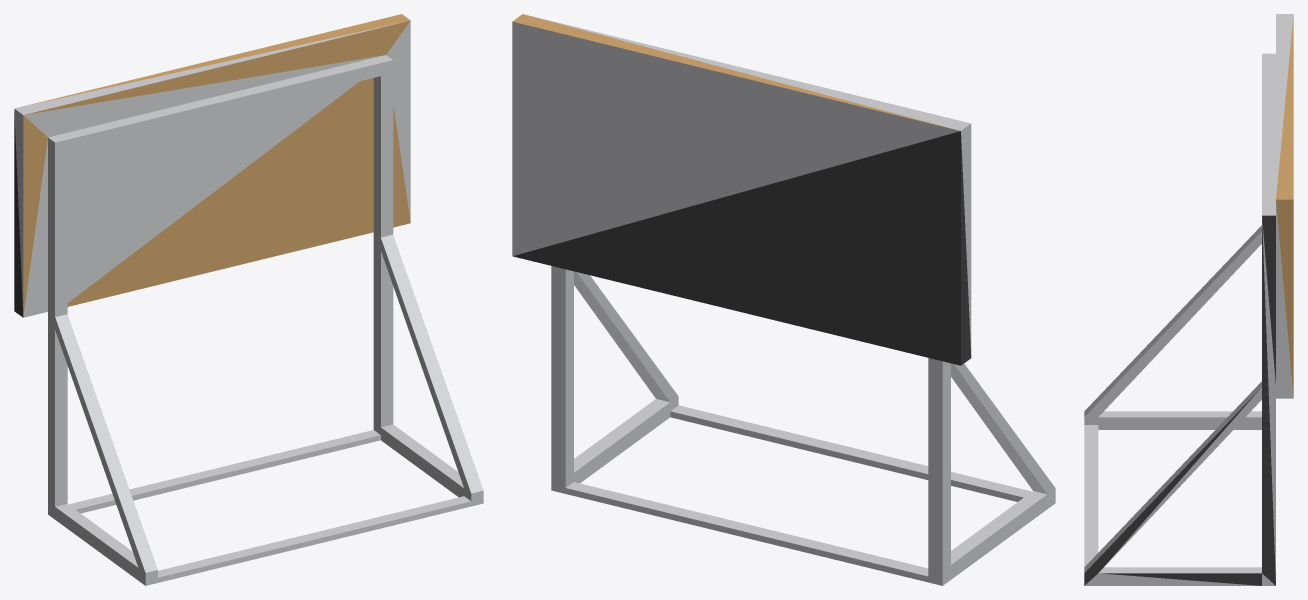
File: billboard.glb
3 views of the same model, side by side, from view 1: azimuth 30°, elevation 25°; view 2: azimuth 150°, elevation 25°; view 3: azimuth 270°, elevation 25° (orthographic). The views are drawn at different scales.
Visible parts, largest first — view 1: billboard; view 2: billboard; view 3: billboard.
Part boxes in pixels (x1,y1,x2,y2): billboard: [14, 14, 483, 585]; billboard: [512, 14, 1055, 585]; billboard: [1084, 14, 1293, 585].
Bounding box in the file's own units: 10 × 10 × 4.76.
